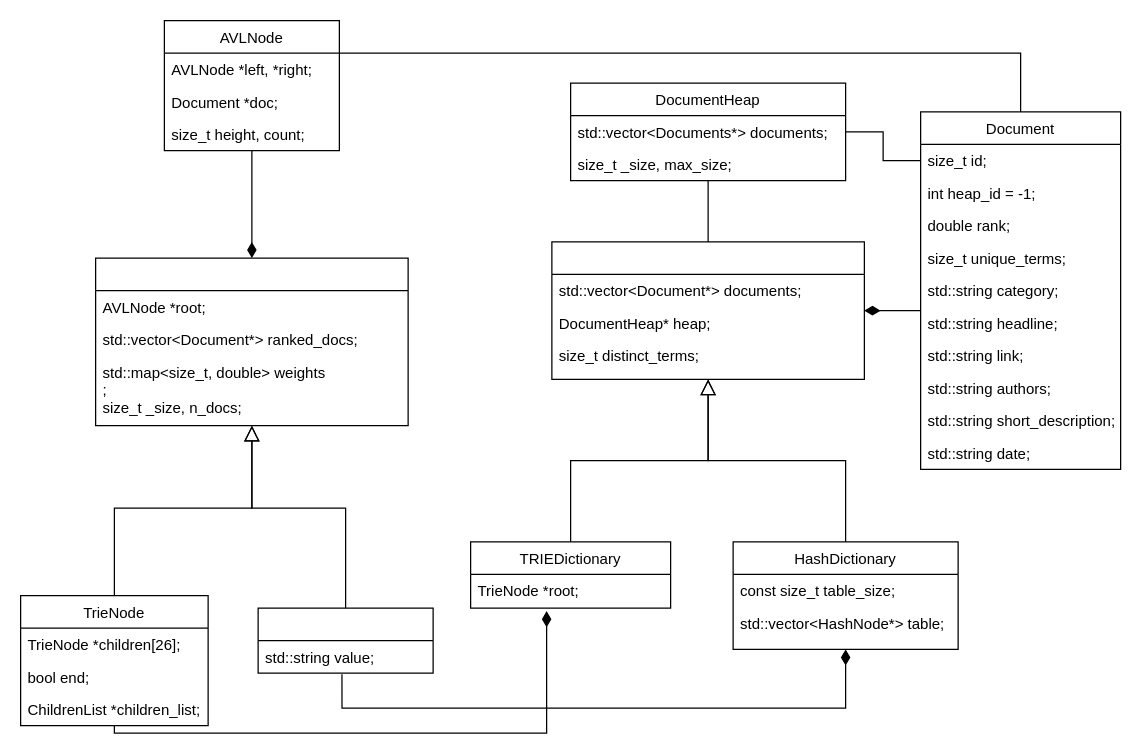
Some shapes in this 1141 by 754 pixel diagram are drawn without their labels. Each missing label, with the box of its shape:
Dictionary: (551, 241, 864, 379)
DictNode: (94, 257, 408, 426)
HashNode: (257, 607, 433, 673)
